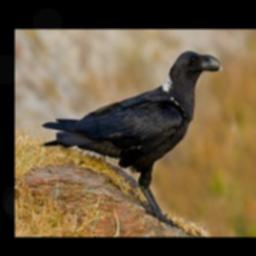Crow: (41, 50, 223, 228)
